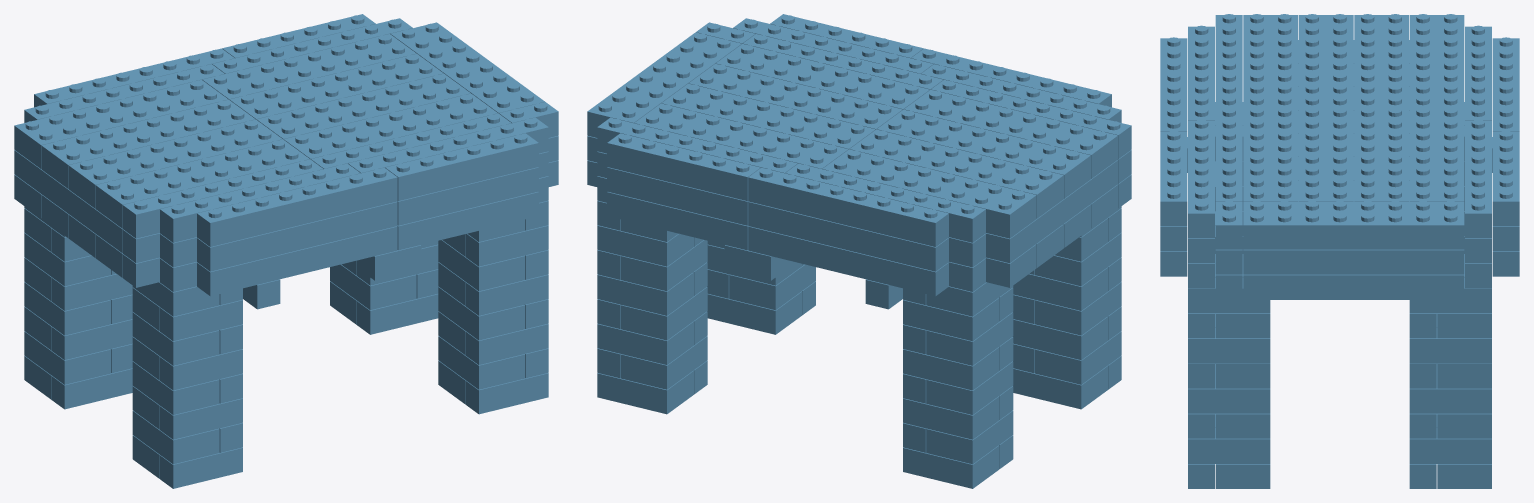
Rendered from collab_table-L4V2_raw.glb.
3 renders of one model, left to right at view 1: azimuth 30°, elevation 25°; view 2: azimuth 150°, elevation 25°; view 3: azimuth 270°, elevation 25°, orthographic.
Size of the model in its own units: 17.98 by 11.13 by 12.98.
